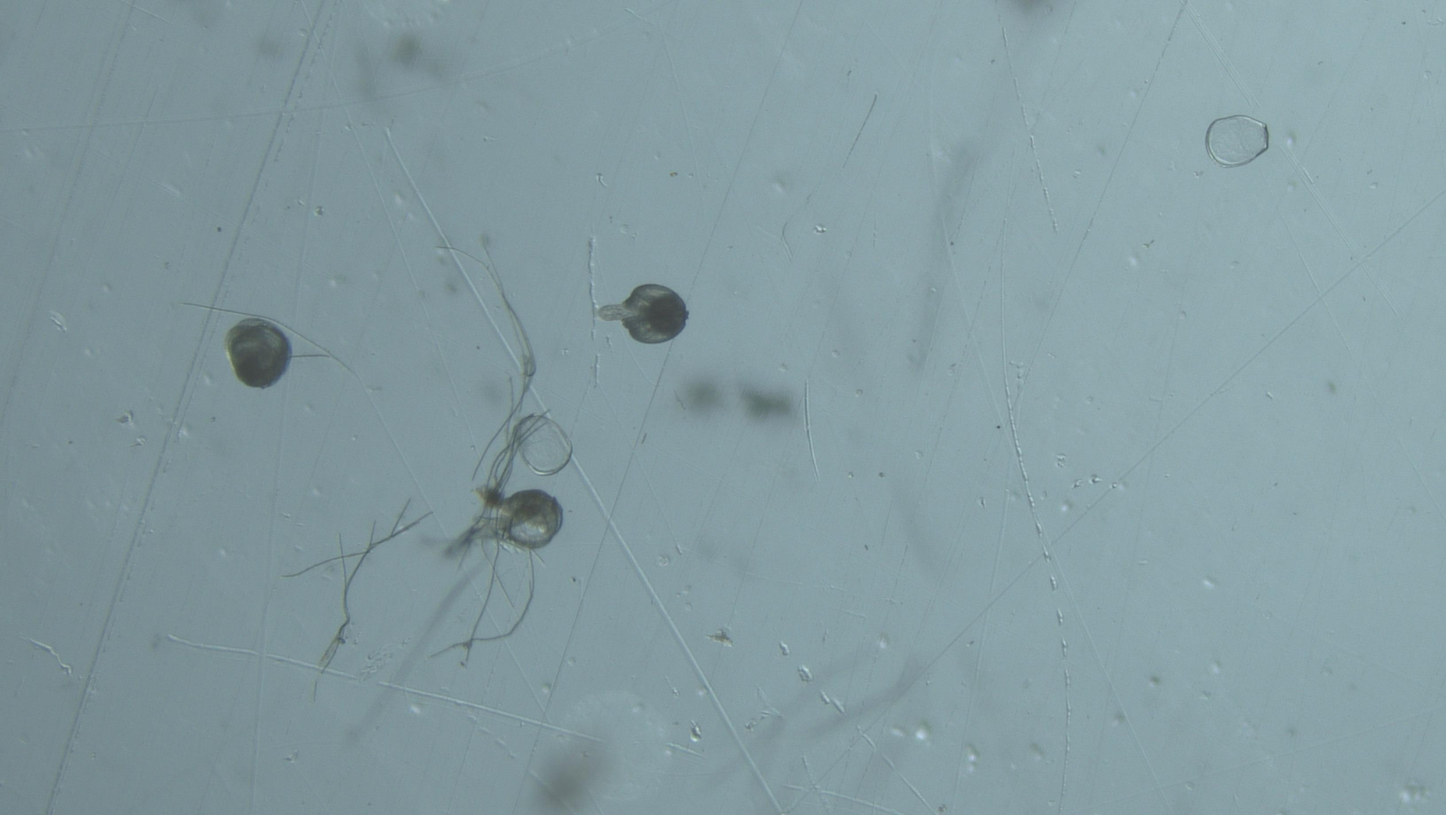dead: (516, 414, 573, 476), (1206, 116, 1269, 168)
live: (595, 284, 688, 345), (226, 318, 292, 389)
